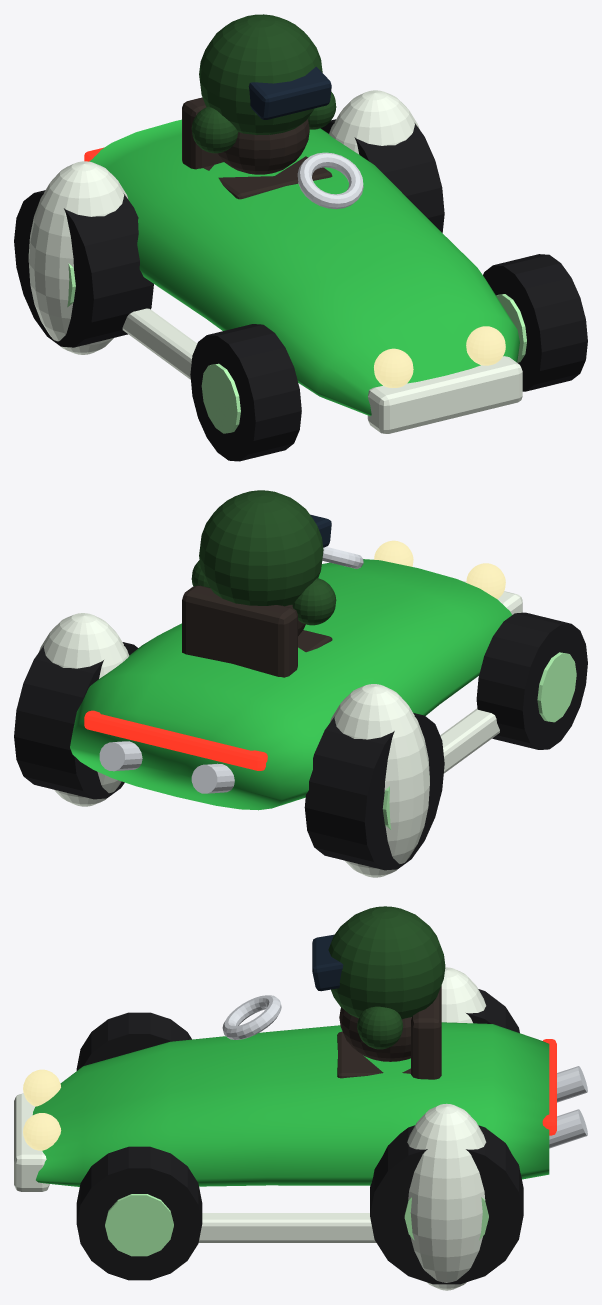
Rendered from kart3.glb.
3 renders of one model, top to bottom at view 1: azimuth 30°, elevation 25°; view 2: azimuth 150°, elevation 25°; view 3: azimuth 270°, elevation 25°, orthographic. The views are drawn at different scales.
Parts seen in each view (by area): view 1: Body, TireRR, TireFR, Head, TireFL, Fender.001, Bumper, TireRL, Fender, Torso, Visor, Skirt.001 (+9 smaller); view 2: Body, TireRR, Head, TireFR, TireRL, Fender.001, SeatBack, Fender, TailBar, HubFR, Skirt.001, ShR (+6 smaller); view 3: Body, Fender, TireFL, TireRL, Head, Skirt, TireFR, HubFL, SeatBack, Bumper, Fender.001, WheelSteer (+10 smaller).
Boxes of the visible parts, box(x1,y1,x2,y2) form: Body: box(89, 119, 519, 415); TireRR: box(14, 190, 153, 347); TireFR: box(190, 324, 301, 461); Head: box(199, 14, 322, 134); TireFL: box(483, 254, 587, 391); Fender.001: box(28, 161, 127, 354); Bumper: box(367, 356, 522, 433); TireRL: box(320, 119, 444, 232); Fender: box(329, 90, 419, 154); Torso: box(217, 119, 309, 174); Visor: box(248, 66, 331, 119); Skirt.001: box(122, 308, 197, 379); Body: box(70, 559, 511, 810); TireRR: box(304, 713, 444, 870); Head: box(199, 490, 323, 606); TireFR: box(476, 612, 587, 749); TireRL: box(14, 642, 138, 799); Fender.001: box(330, 684, 429, 877); SeatBack: box(182, 585, 297, 677); Fender: box(38, 613, 129, 806); TailBar: box(84, 710, 267, 770); HubFR: box(537, 652, 576, 722); Skirt.001: box(440, 708, 499, 773); ShR: box(292, 578, 336, 625); Body: box(32, 1022, 549, 1186); Fender: box(407, 1103, 486, 1290); TireFL: box(76, 1146, 202, 1280); TireRL: box(370, 1125, 523, 1284); Head: box(328, 906, 445, 1019); Skirt: box(198, 1213, 376, 1242); TireFR: box(76, 1012, 191, 1070); HubFL: box(105, 1194, 173, 1256); SeatBack: box(411, 985, 441, 1079); Bumper: box(14, 1093, 49, 1191); Fender.001: box(441, 967, 486, 1023); WheelSteer: box(222, 995, 281, 1039).
Size of the model in its own units: 1.69 by 1.32 by 2.24.
